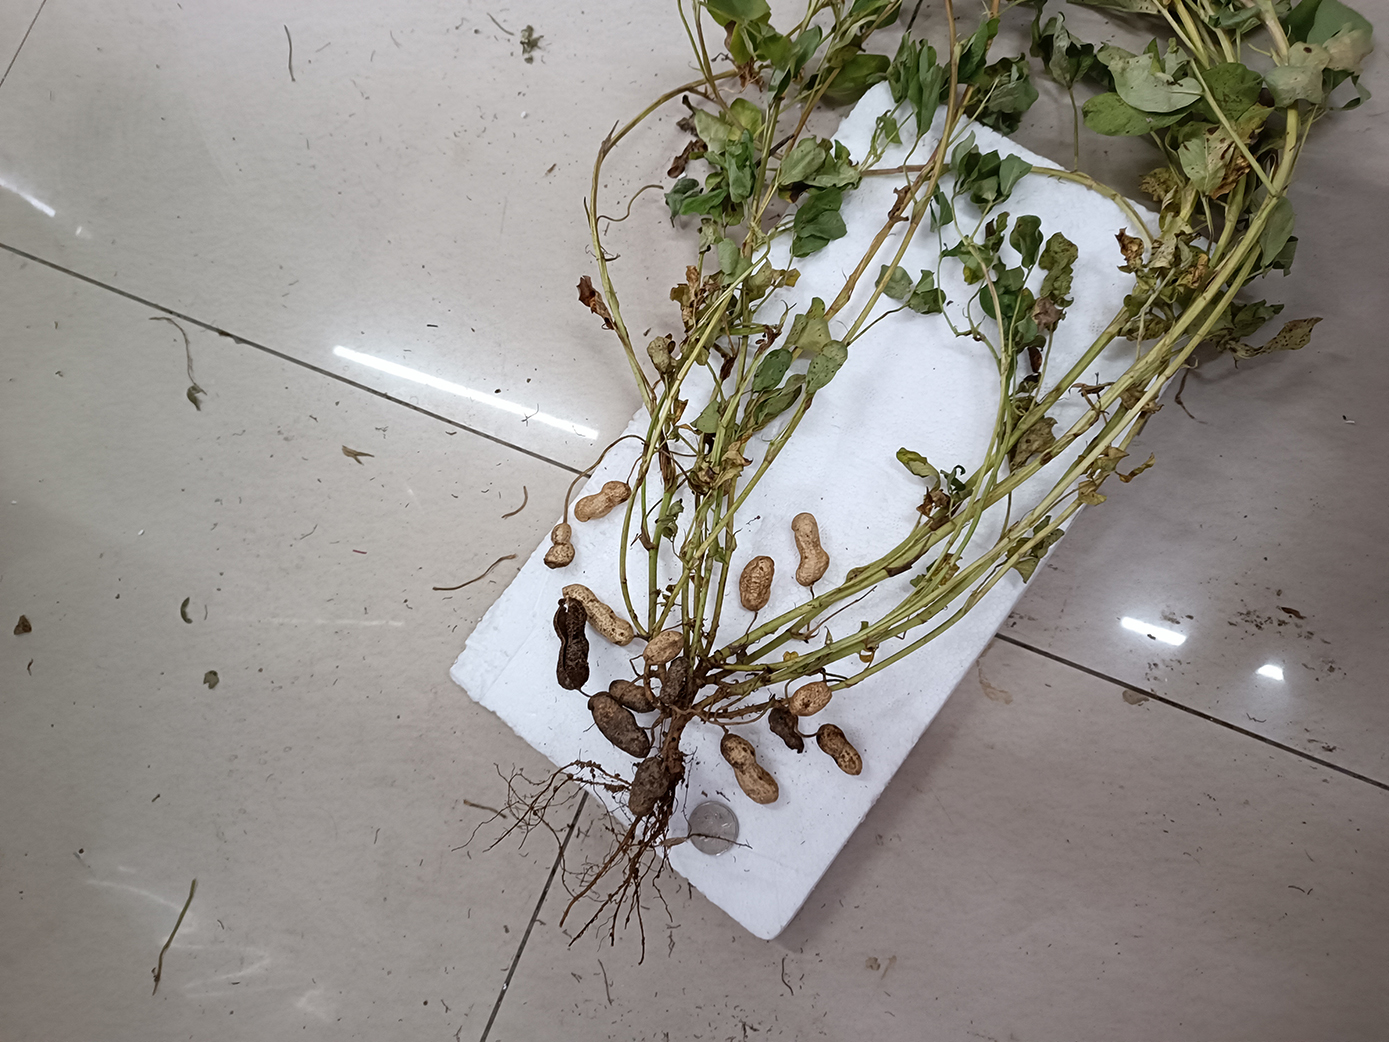h: (562, 583, 633, 647), (720, 733, 778, 804), (791, 512, 830, 587), (574, 481, 632, 522), (739, 556, 775, 611), (787, 681, 834, 718), (544, 522, 576, 569), (643, 630, 683, 665)
l: (586, 691, 650, 757), (553, 599, 590, 691), (817, 723, 863, 776), (630, 759, 665, 815), (659, 657, 693, 714), (607, 678, 656, 713), (769, 708, 806, 754)
